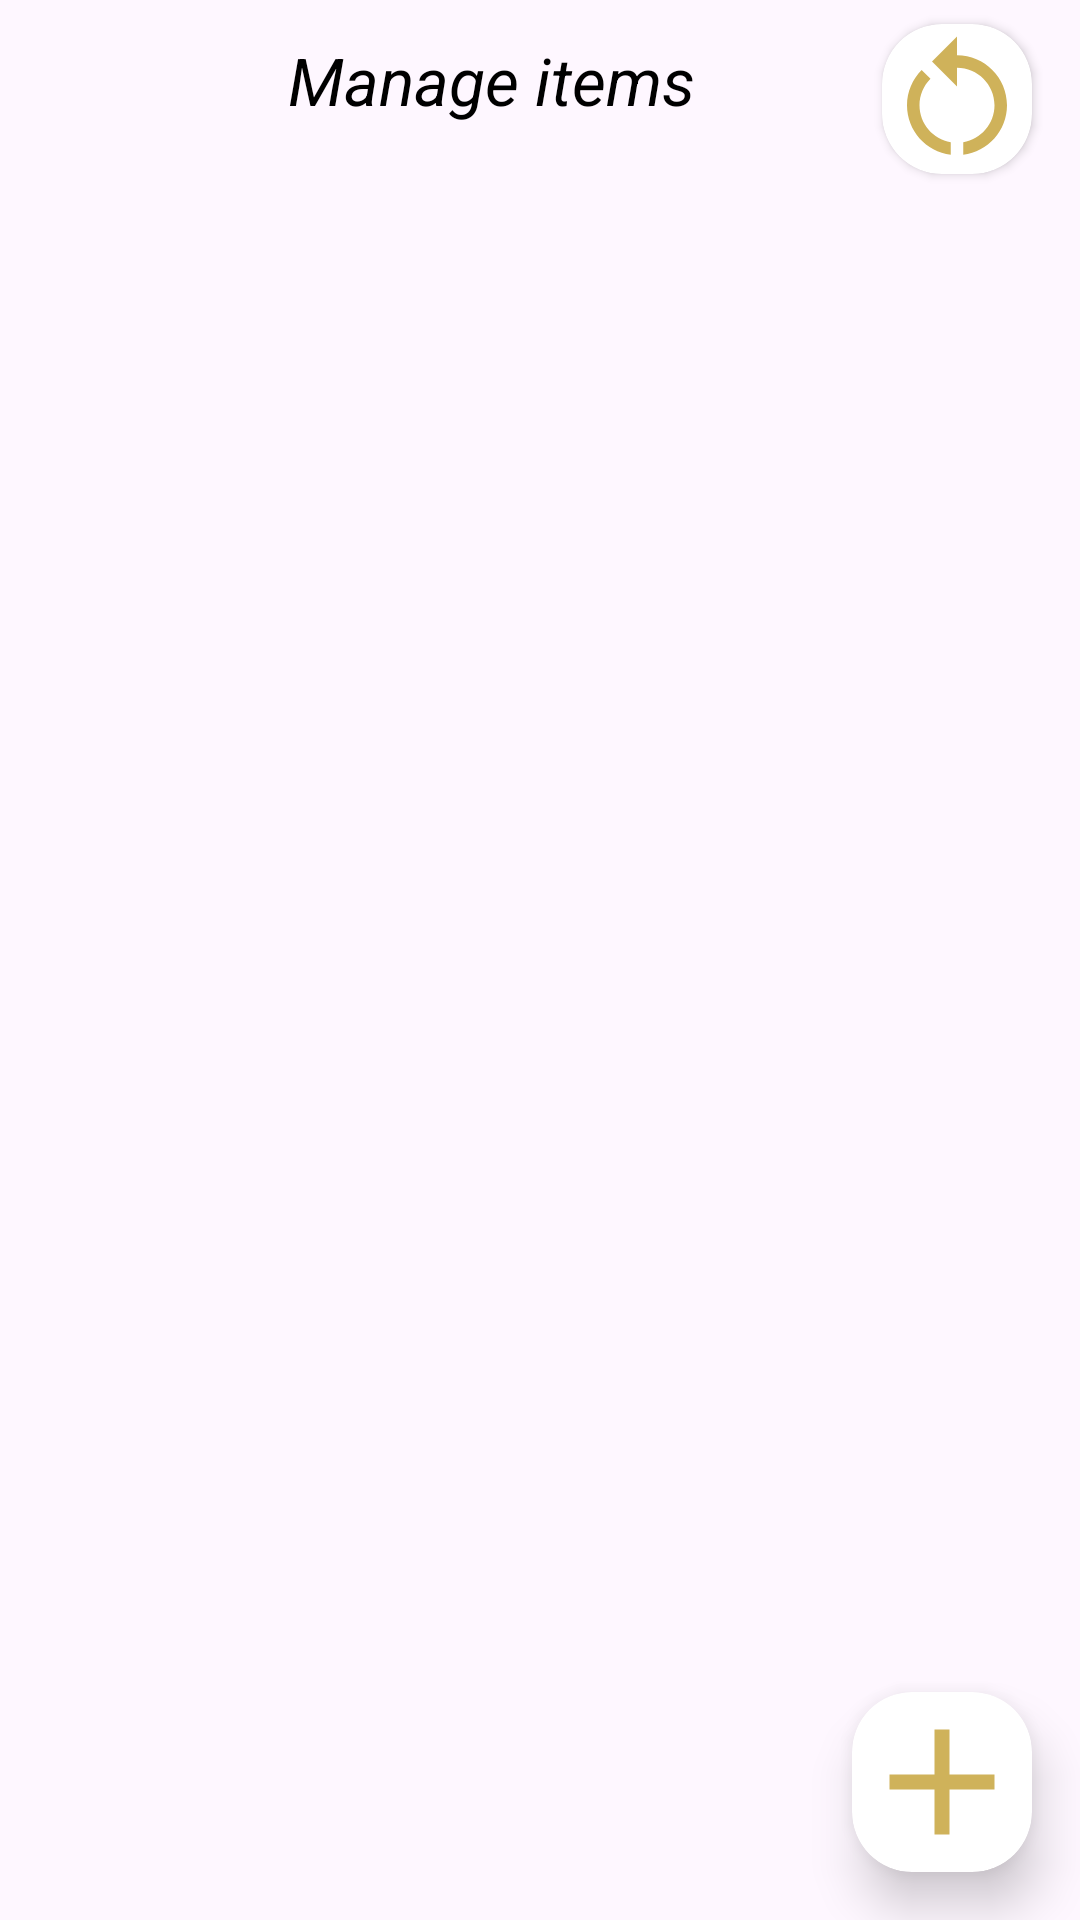

Named icons in this screenshot (1080px x 1920px) and their bounding boxes, region(x1, y1, x2, y2):
add: region(852, 1692, 1032, 1872)
restart: region(882, 24, 1032, 174)
